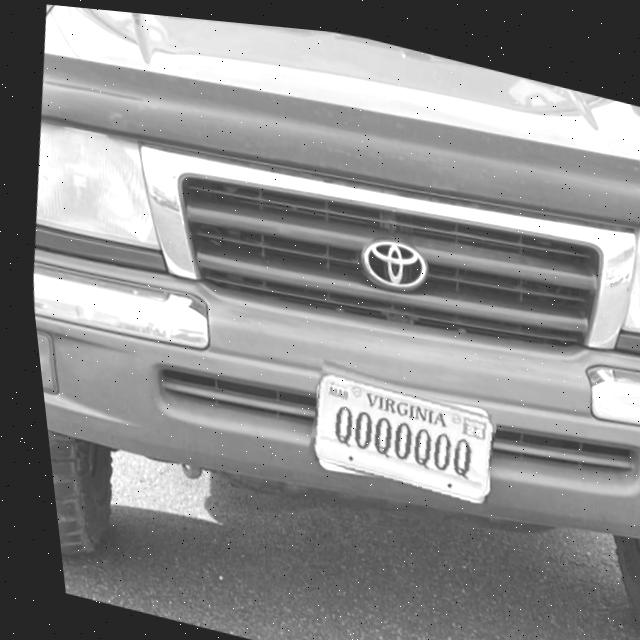LicensePlate: (305, 367, 483, 494)
